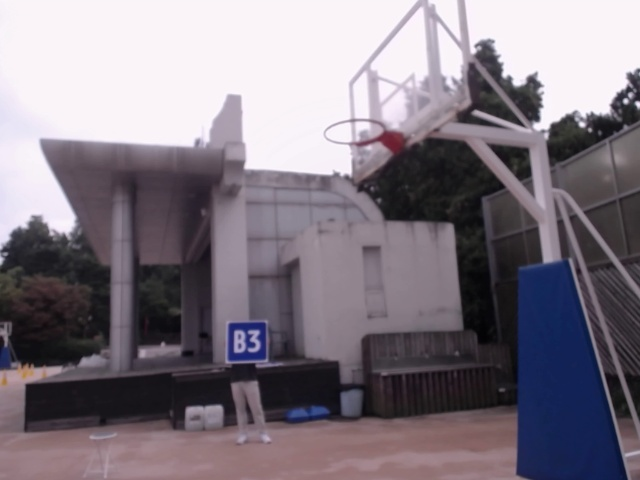delivery_b3: (225, 321, 267, 363)
